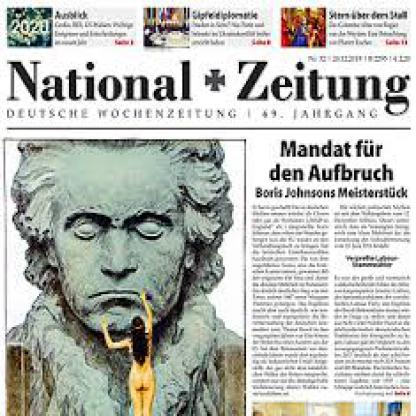paper: (0, 0, 414, 414)
